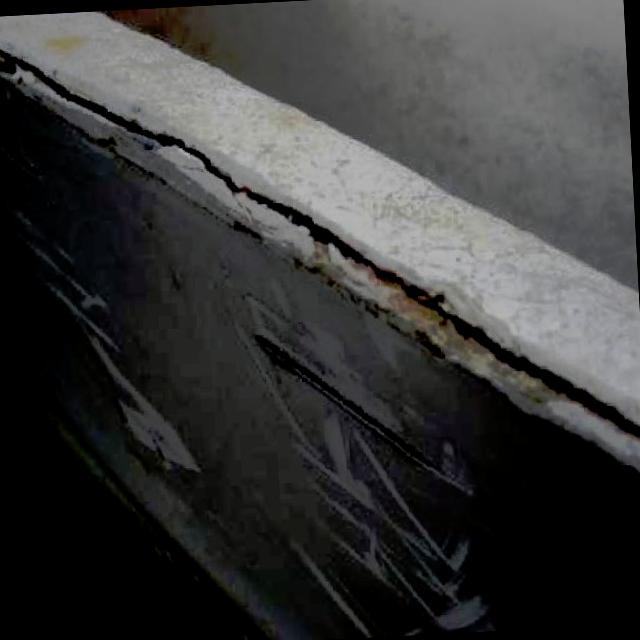crack: (382, 266, 640, 450), (168, 130, 380, 286), (0, 33, 167, 150)
